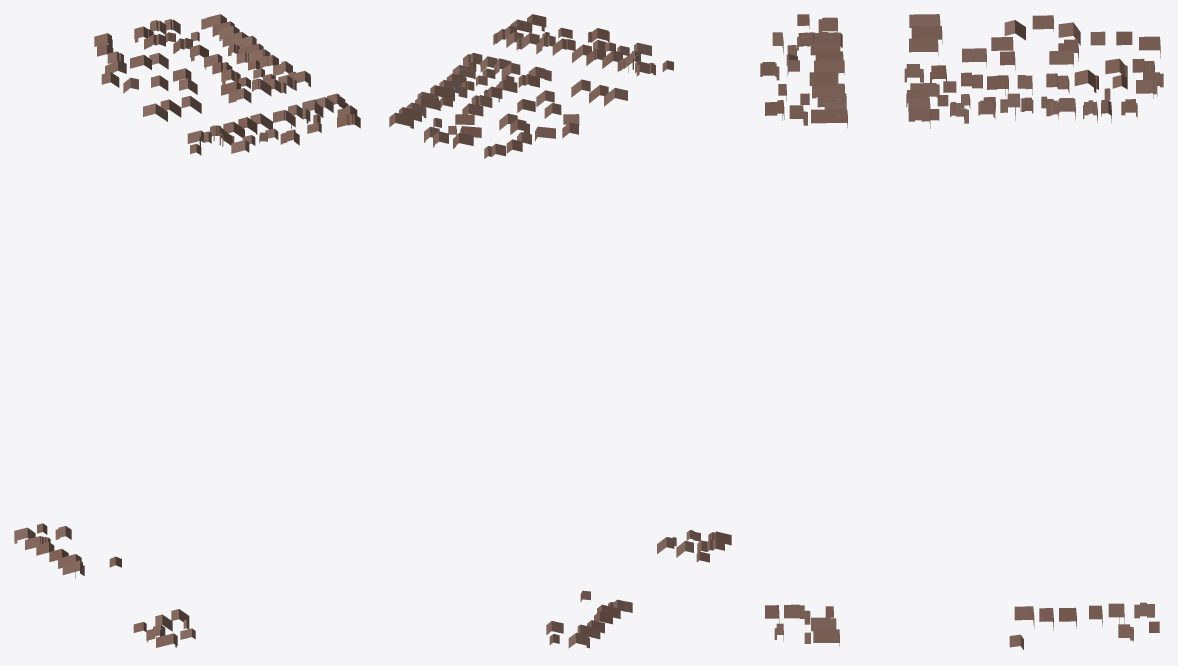
File: c_1638_17828_buildings_residential.glb
3 renders of one model, left to right at view 1: azimuth 30°, elevation 25°; view 2: azimuth 150°, elevation 25°; view 3: azimuth 270°, elevation 25°, orthographic. The views are drawn at different scales.
Visible parts, largest first — view 1: geometry_0; view 2: geometry_0; view 3: geometry_0.
Part boxes in pixels (box(x1,y1,x2,y2)): geometry_0: box(14, 14, 360, 647); geometry_0: box(389, 14, 731, 648); geometry_0: box(760, 14, 1163, 649).
Bounding box in the file's own units: 200 × 444 × 255.
